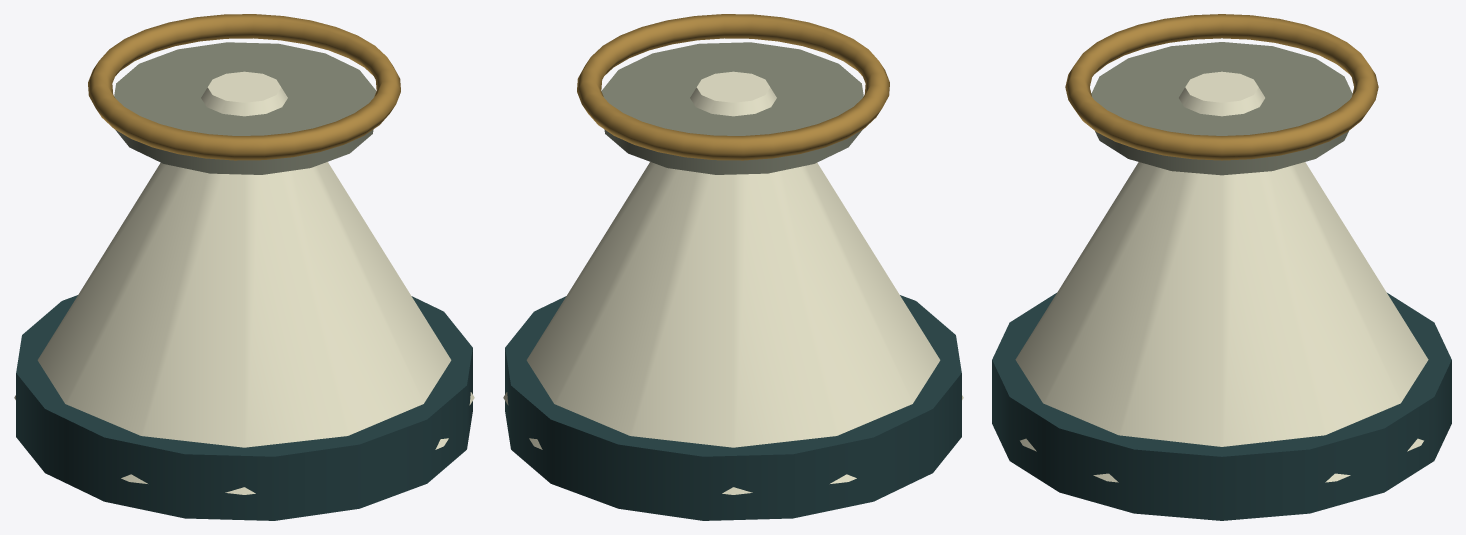
The model's file is planter.glb.
The picture shows the model from 3 angles, left to right: view 1: azimuth 30°, elevation 25°; view 2: azimuth 150°, elevation 25°; view 3: azimuth 270°, elevation 25°; orthographic projection.
Parts seen in each view (by area): view 1: body, base, soil, rim; view 2: body, base, soil, rim; view 3: body, base, soil, rim.
Boxes of the visible parts, box(x1,y1,x2,y2) form: body: box(14, 71, 474, 494); base: box(16, 295, 472, 520); soil: box(114, 42, 376, 174); rim: box(88, 14, 400, 160); body: box(503, 71, 963, 494); base: box(505, 295, 961, 520); soil: box(601, 42, 863, 174); rim: box(577, 14, 889, 160); body: box(1015, 71, 1428, 482); base: box(992, 293, 1451, 520); soil: box(1091, 42, 1352, 175); rim: box(1065, 14, 1378, 160).
Bounding box in the file's own units: 1.56 × 1.3 × 1.56.
